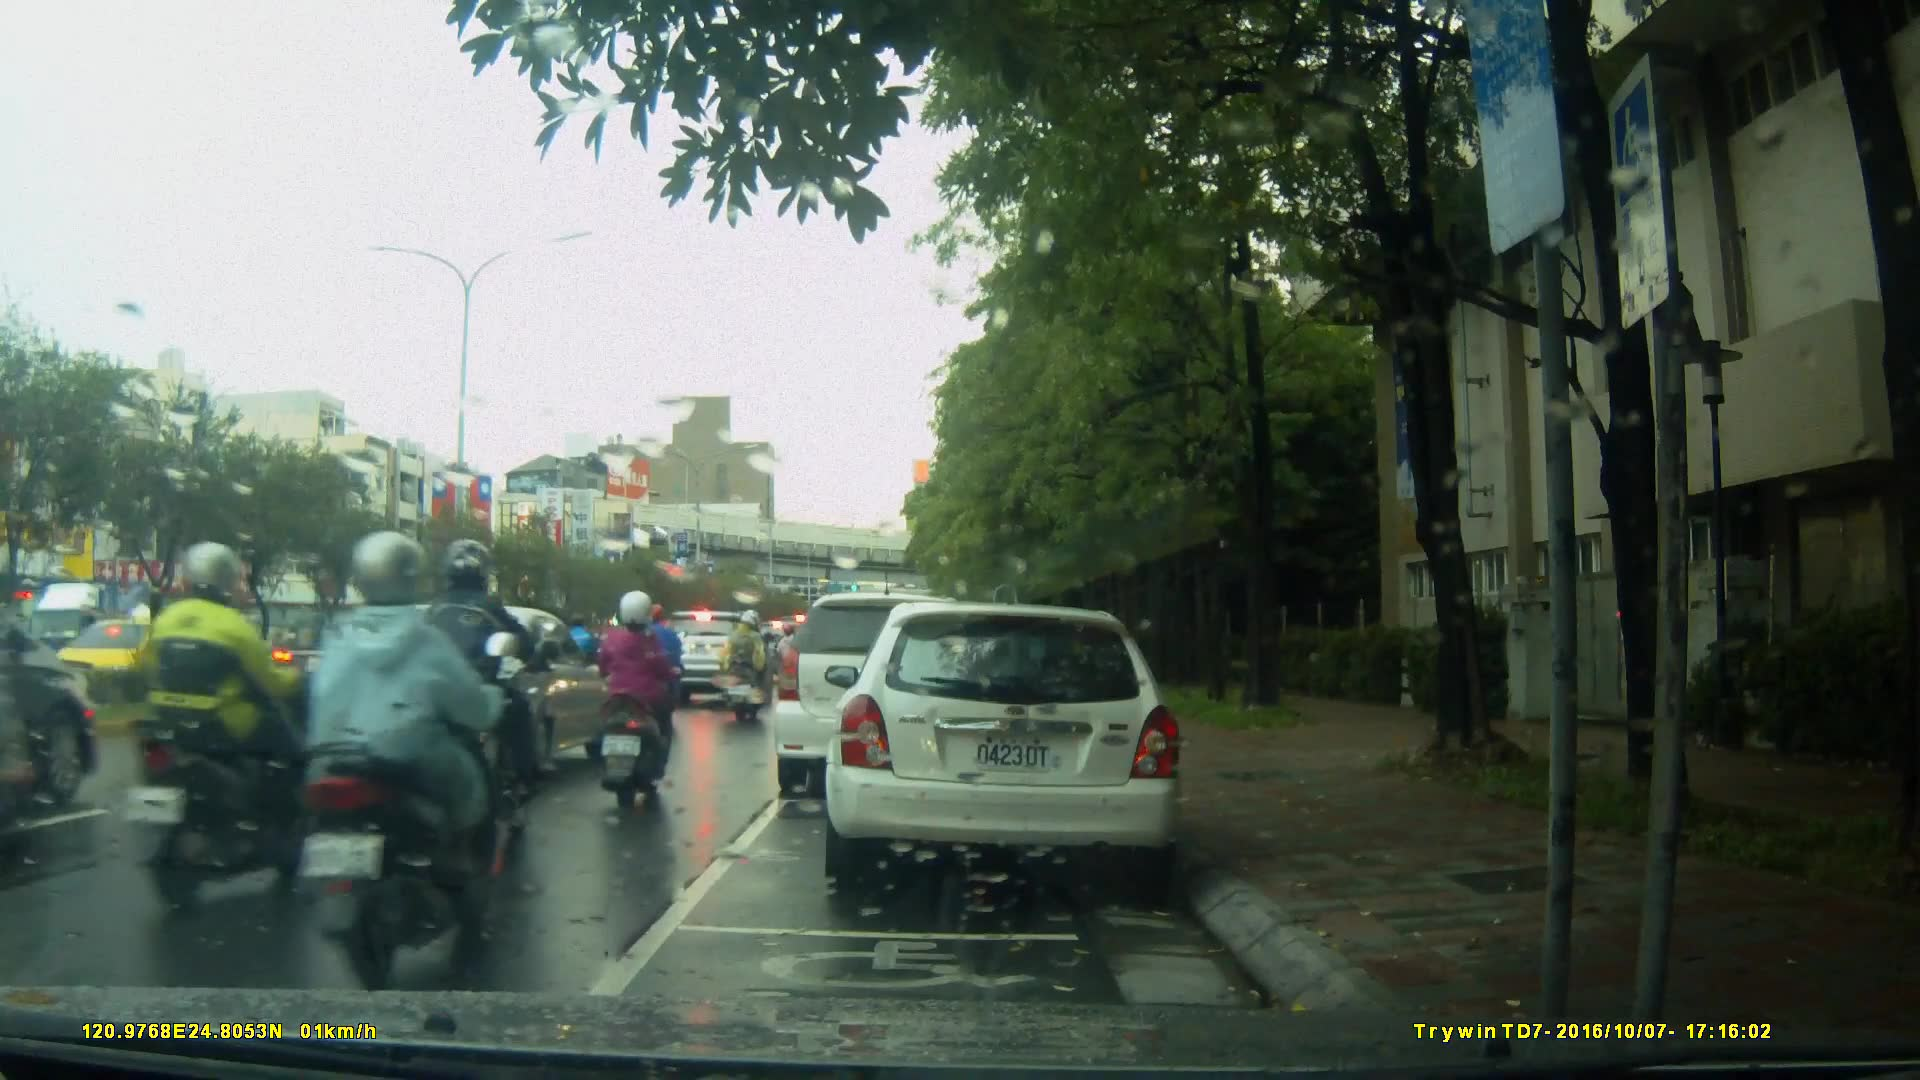rider: (303, 531, 527, 966), (127, 534, 305, 921), (388, 539, 543, 873), (1, 555, 106, 859), (593, 593, 676, 813), (637, 604, 684, 714), (561, 605, 608, 710), (726, 612, 768, 728)
vehicle: (822, 604, 1188, 883), (317, 602, 623, 791), (774, 595, 995, 802), (20, 576, 161, 697), (652, 613, 776, 704)
